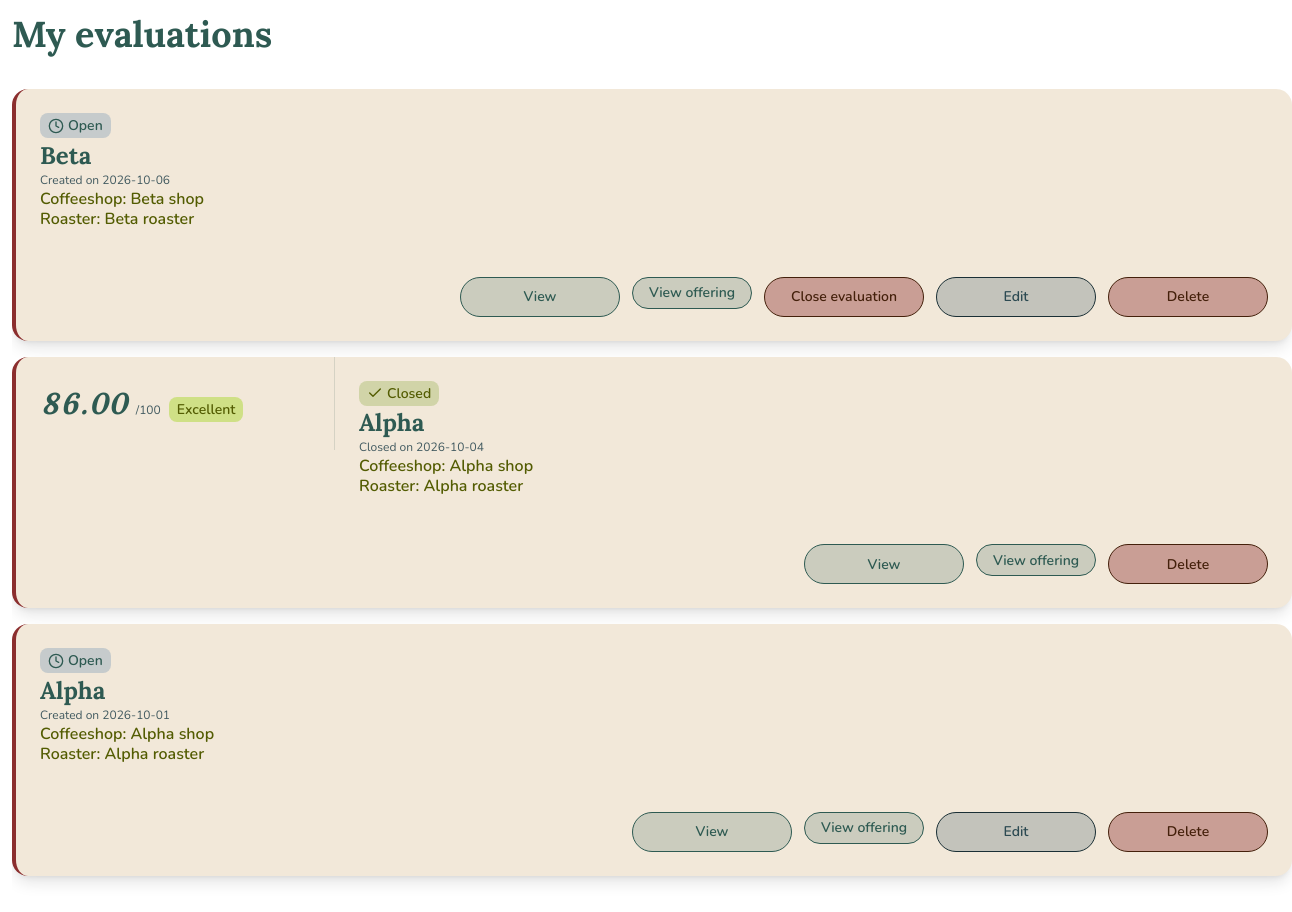
Test: EvaluationsList: closing a row (close-evaluation-only-when-saved) › The row's close succeeds
Click the button "Close evaluation" at (844, 296), box [764,276,924,316]
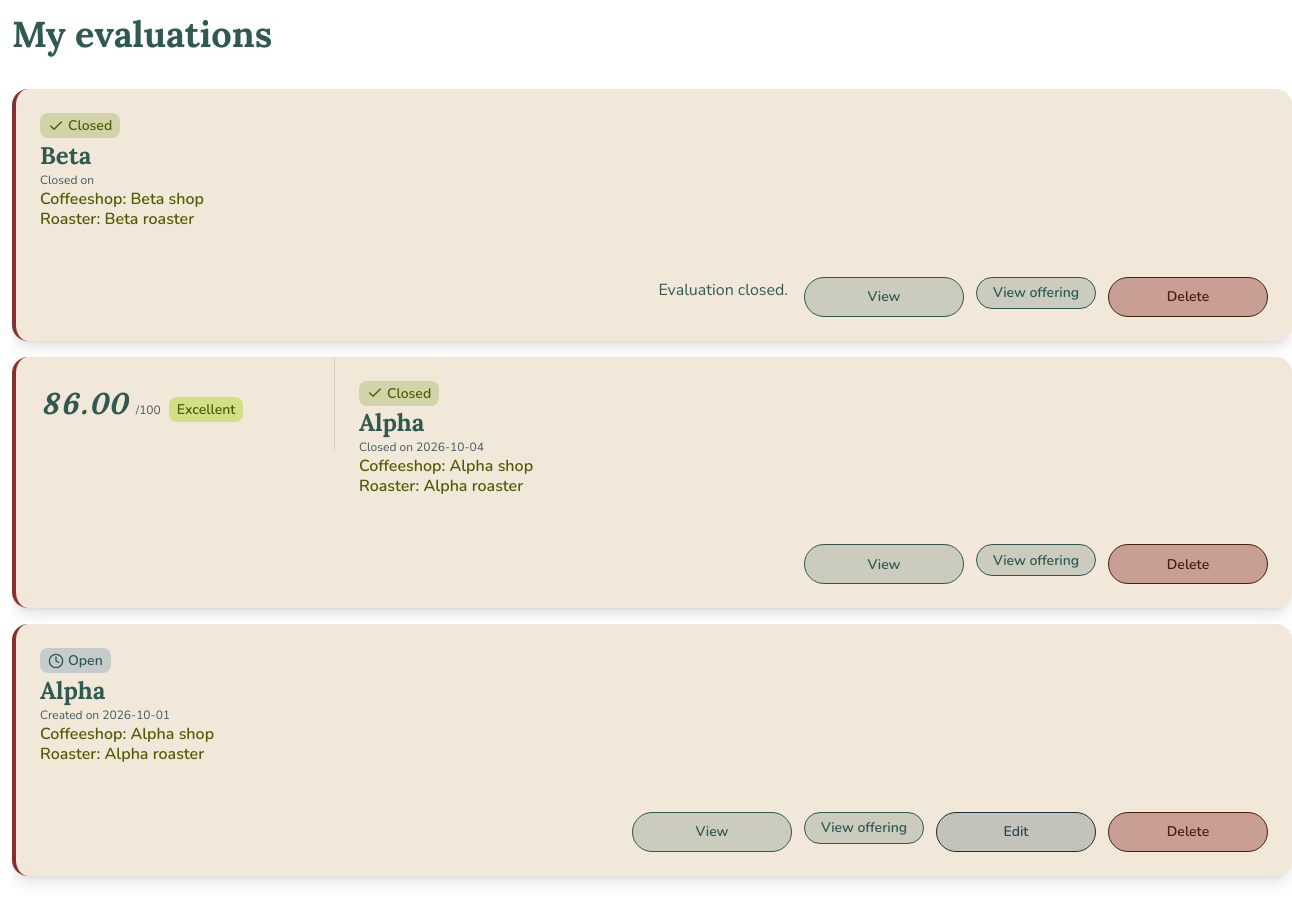
Expected: the button "View" next to "Evaluation closed." is shown, [804,276,964,316]
Expected: the message reads "Evaluation closed.", [658,278,788,300]
Expected: the button "Close evaluation" is gone
